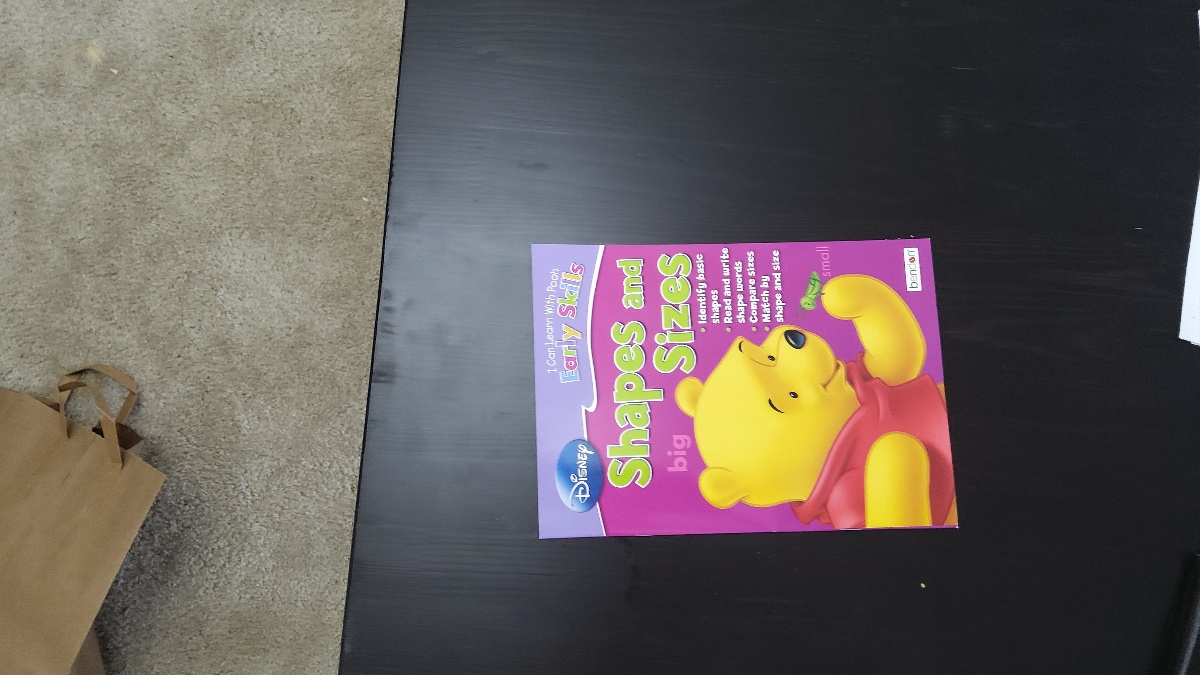book: (532, 242, 948, 526)
